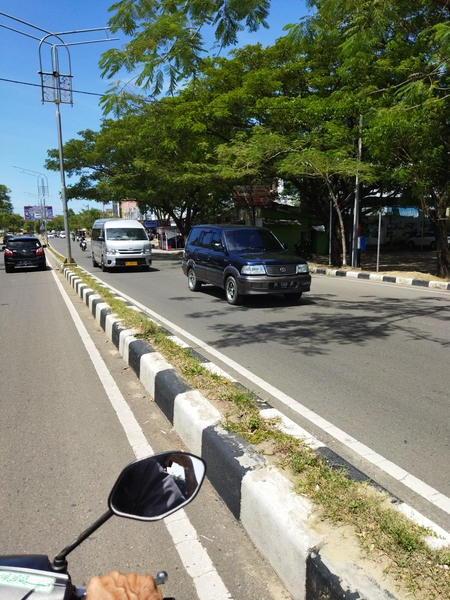car: (181, 220, 316, 312), (88, 216, 155, 275), (2, 234, 50, 274)
